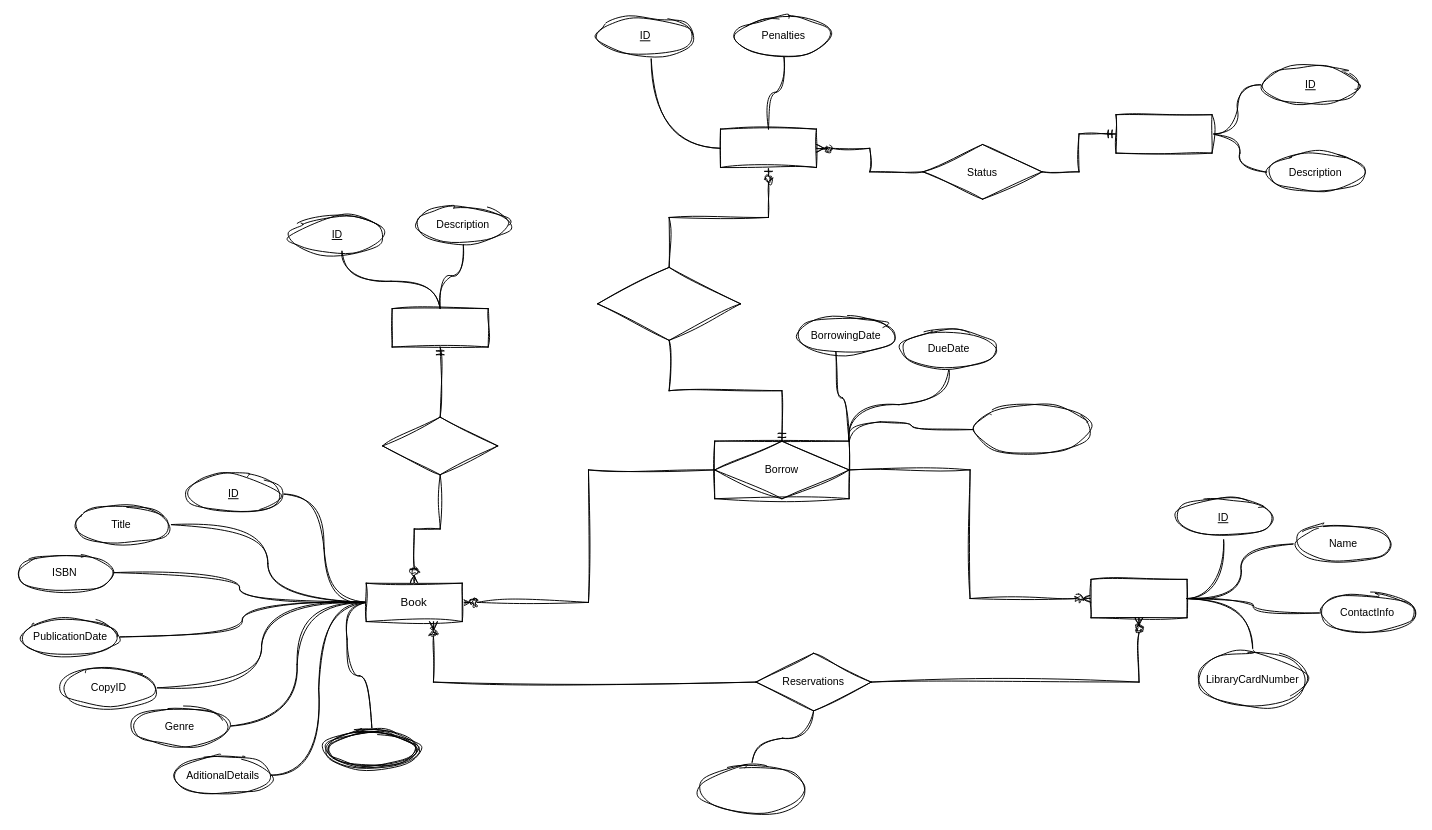
Some shapes in this 1432 by 830 pixel diagram are drawn without their labels. Here are the shapes that lost their labels. From the top down, the box of each, then its label:
(720, 128, 816, 168): Payment
(1115, 114, 1212, 153): PaymentStatus
(597, 266, 741, 340): BorrowingPayment
(391, 308, 488, 347): BookAvailability
(382, 416, 498, 475): Availability
(973, 404, 1091, 455): BorrowingAmount
(1090, 578, 1187, 618): User
(323, 729, 420, 768): Authors
(697, 765, 805, 814): ReservationDate
